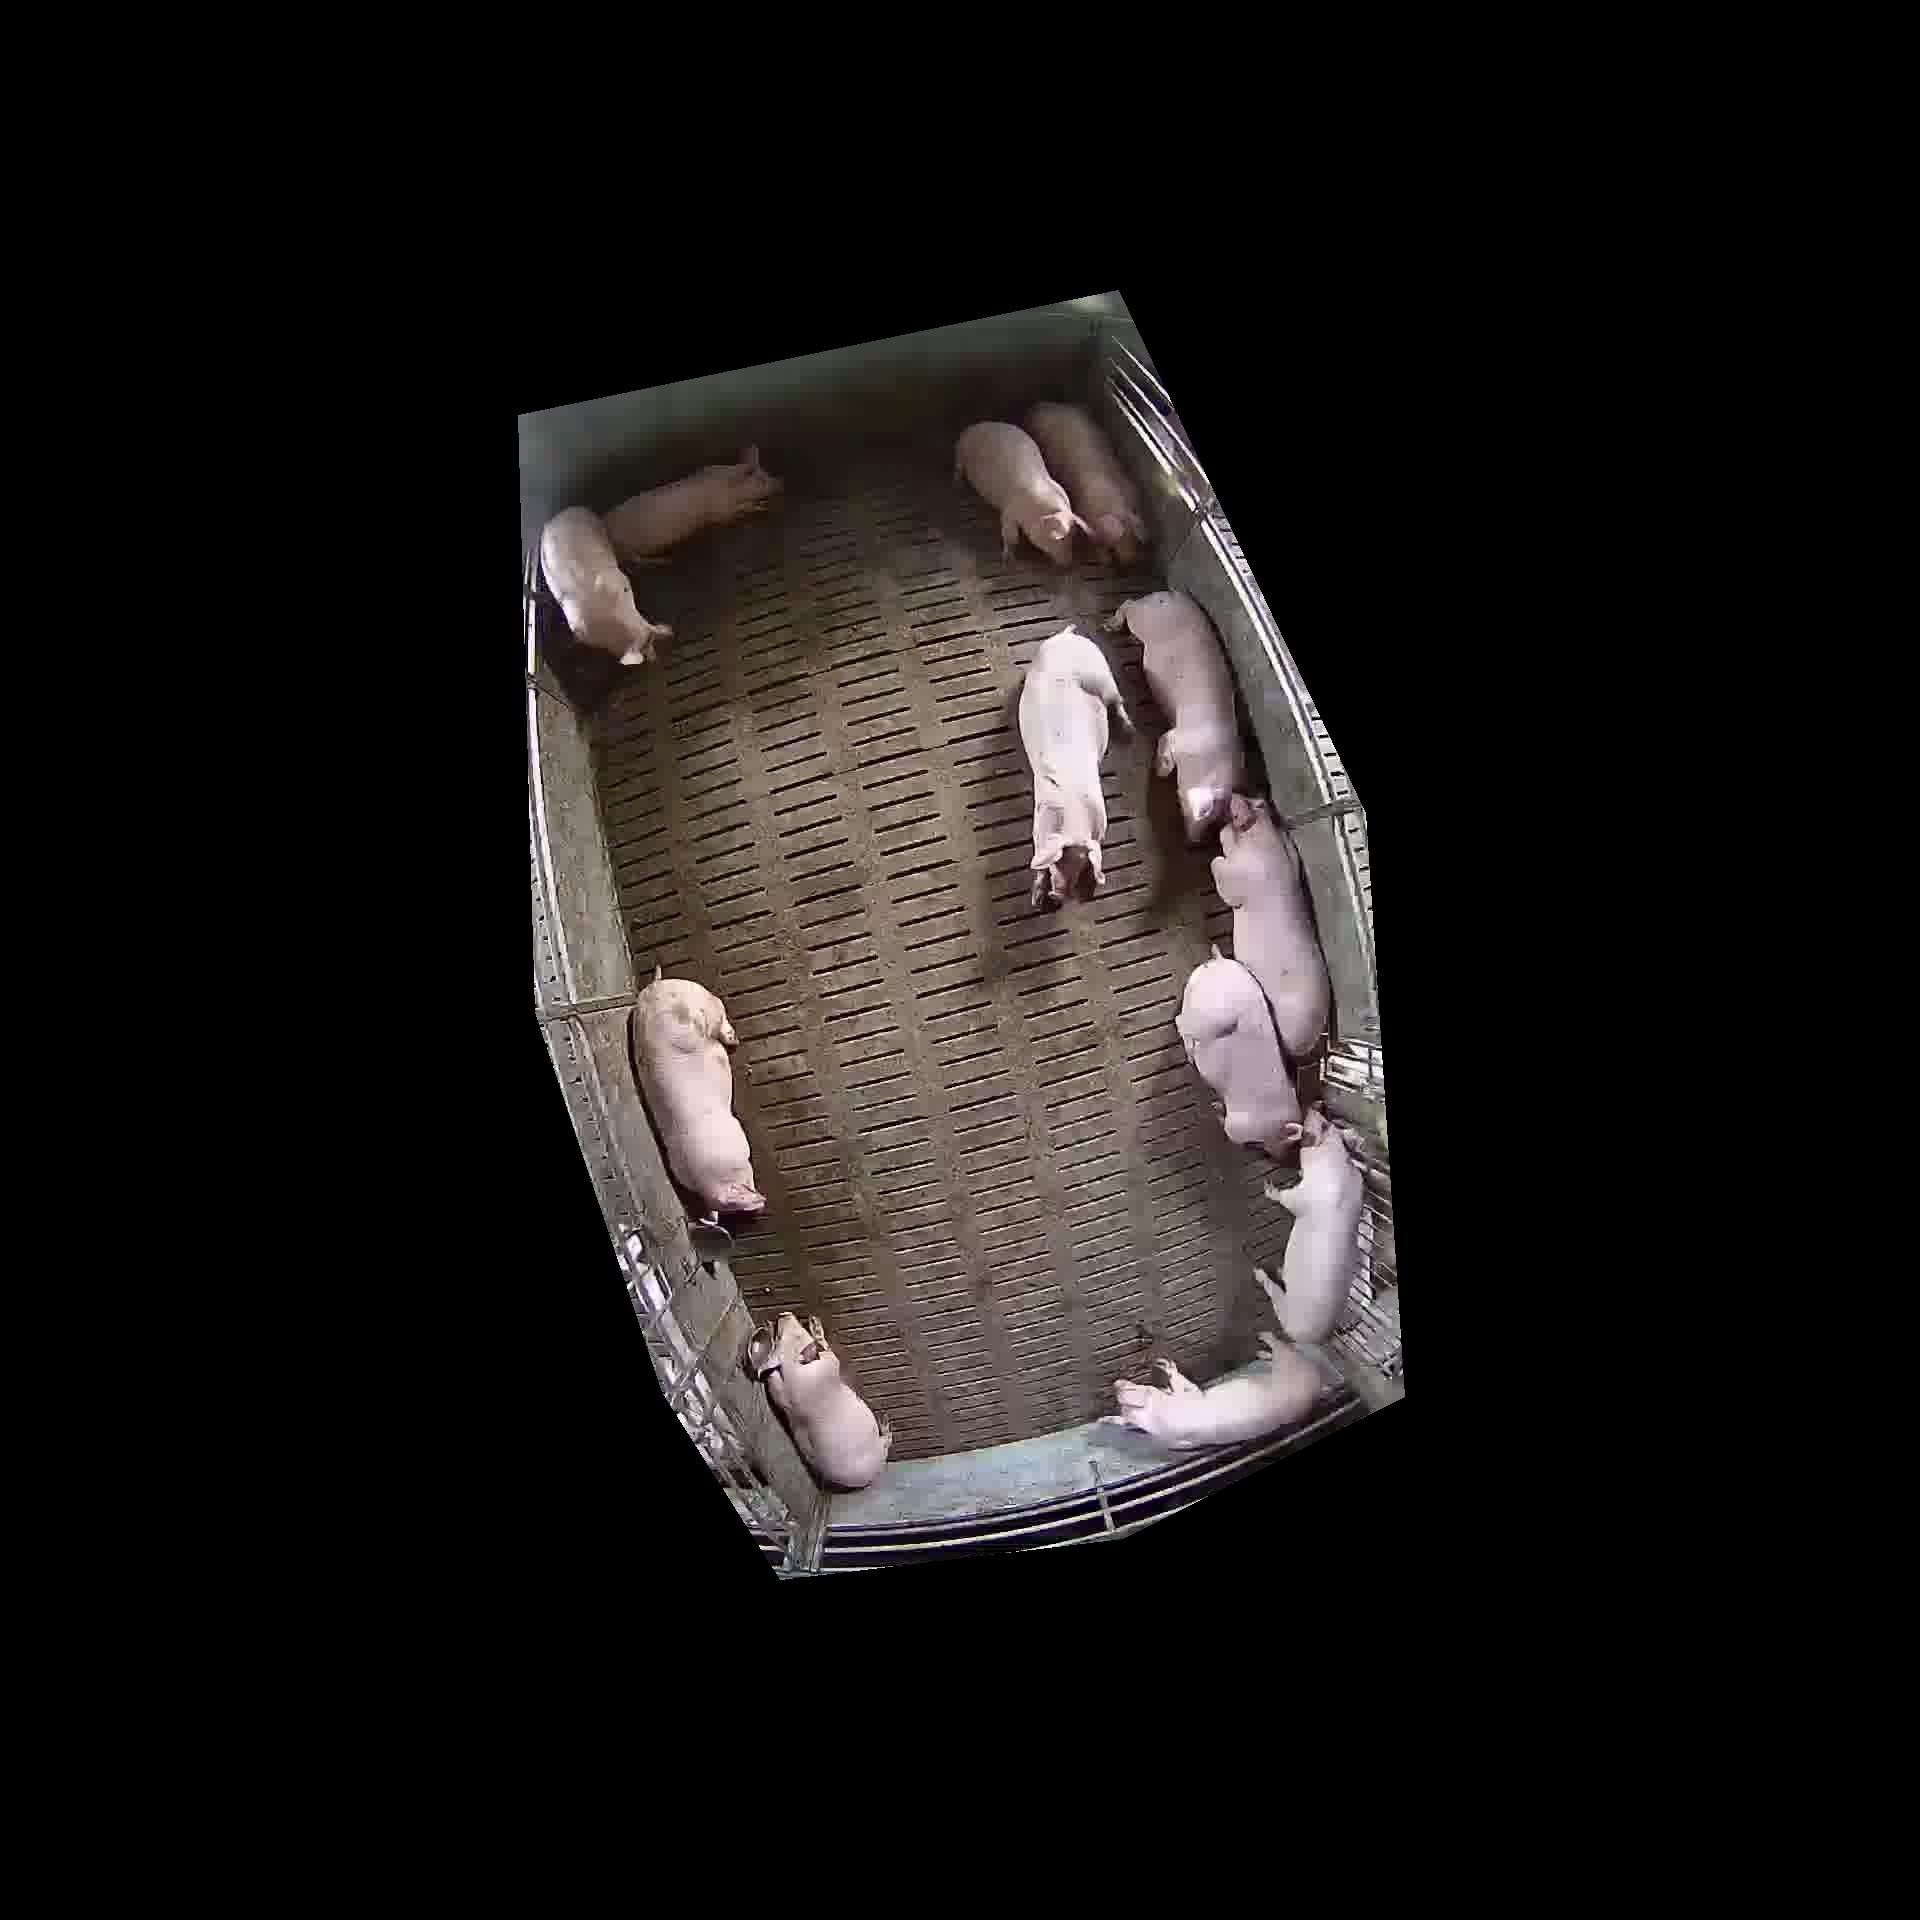pig: (1111, 591, 1243, 842), (631, 971, 765, 1213), (1018, 626, 1131, 911), (1211, 795, 1329, 1057), (1176, 951, 1299, 1157), (1255, 1109, 1363, 1343), (751, 1312, 890, 1487), (540, 506, 670, 665), (603, 447, 782, 559), (1023, 403, 1145, 564), (955, 420, 1087, 564)
